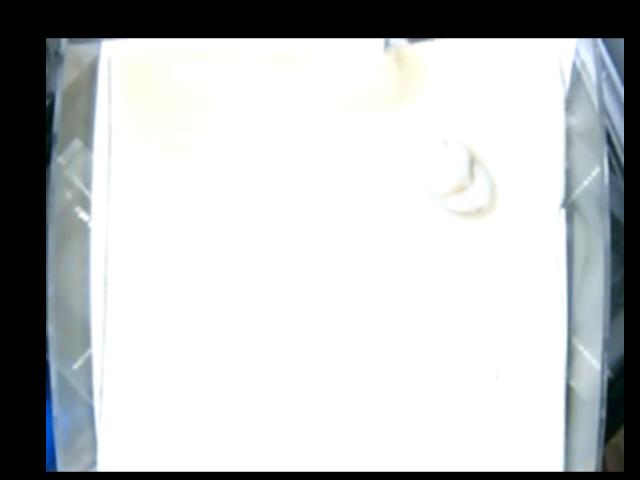Pebble: (423, 137, 494, 213)
